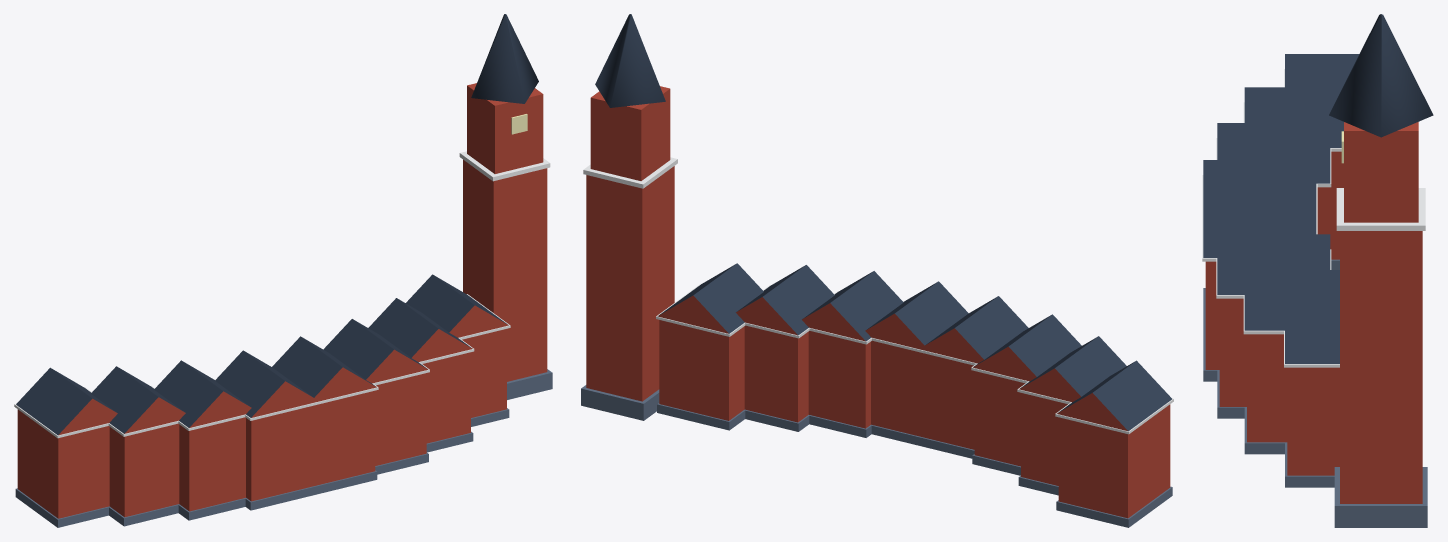
The model's file is lm_04_truong_cdsp_dalat_base.glb.
3 renders of one model, left to right at view 1: azimuth 30°, elevation 25°; view 2: azimuth 150°, elevation 25°; view 3: azimuth 270°, elevation 25°, orthographic. The views are drawn at different scales.
Visible parts, largest first — view 1: tower_shaft_low, arc_wall_0, arc_wall_1, arc_wall_4, arc_wall_2, arc_wall_3, tower_belfry, arc_wall_5, arc_wall_6, tower_spire, arc_wall_7, arc_roof_0_slope_l (+22 smaller); view 2: tower_shaft_low, arc_wall_0, arc_wall_7, tower_belfry, arc_wall_6, arc_wall_5, arc_wall_4, arc_wall_3, arc_wall_2, tower_spire, arc_wall_1, arc_roof_0_slope_l (+19 smaller); view 3: tower_shaft_low, tower_belfry, tower_spire, arc_wall_7, arc_roof_5_slope_r, arc_roof_4_slope_r, arc_roof_2_slope_r, arc_roof_6_slope_r, arc_wall_6, arc_roof_3_slope_r, arc_roof_1_slope_r, arc_roof_7_slope_r (+11 smaller).
Part boxes in pixels (<box>): tower_shaft_low: <box>463,159,547,381</box>; arc_wall_0: <box>17,409,109,518</box>; arc_wall_1: <box>109,423,179,517</box>; arc_wall_4: <box>308,390,375,487</box>; arc_wall_2: <box>179,417,245,511</box>; arc_wall_3: <box>246,406,316,501</box>; tower_belfry: <box>467,83,543,173</box>; arc_wall_5: <box>375,373,426,465</box>; arc_wall_6: <box>422,352,470,443</box>; tower_spire: <box>471,14,538,103</box>; arc_wall_7: <box>462,329,506,417</box>; arc_roof_0_slope_l: <box>16,367,92,434</box>; tower_shaft_low: <box>586,166,674,401</box>; arc_wall_0: <box>1058,404,1170,518</box>; arc_wall_7: <box>659,320,744,420</box>; tower_belfry: <box>590,86,670,180</box>; arc_wall_6: <box>744,325,808,422</box>; arc_wall_5: <box>808,330,870,428</box>; arc_wall_4: <box>871,340,930,438</box>; arc_wall_3: <box>921,353,974,449</box>; arc_wall_2: <box>974,371,1025,466</box>; tower_spire: <box>595,14,665,107</box>; arc_wall_1: <box>1021,393,1067,485</box>; arc_roof_0_slope_l: <box>1093,360,1171,430</box>; tower_shaft_low: <box>1340,231,1422,503</box>; tower_belfry: <box>1344,122,1418,222</box>; tower_spire: <box>1329,14,1433,137</box>; arc_wall_7: <box>1287,367,1339,475</box>; arc_roof_5_slope_r: <box>1217,234,1330,294</box>; arc_roof_4_slope_r: <box>1203,197,1316,257</box>; arc_roof_2_slope_r: <box>1217,123,1330,183</box>; arc_roof_6_slope_r: <box>1244,270,1339,330</box>; arc_wall_6: <box>1247,334,1287,442</box>; arc_roof_3_slope_r: <box>1203,160,1316,197</box>; arc_roof_1_slope_r: <box>1244,87,1343,147</box>; arc_roof_7_slope_r: <box>1285,303,1339,363</box>.
Bounding box in the file's own units: 79.28 × 54 × 22.93.
